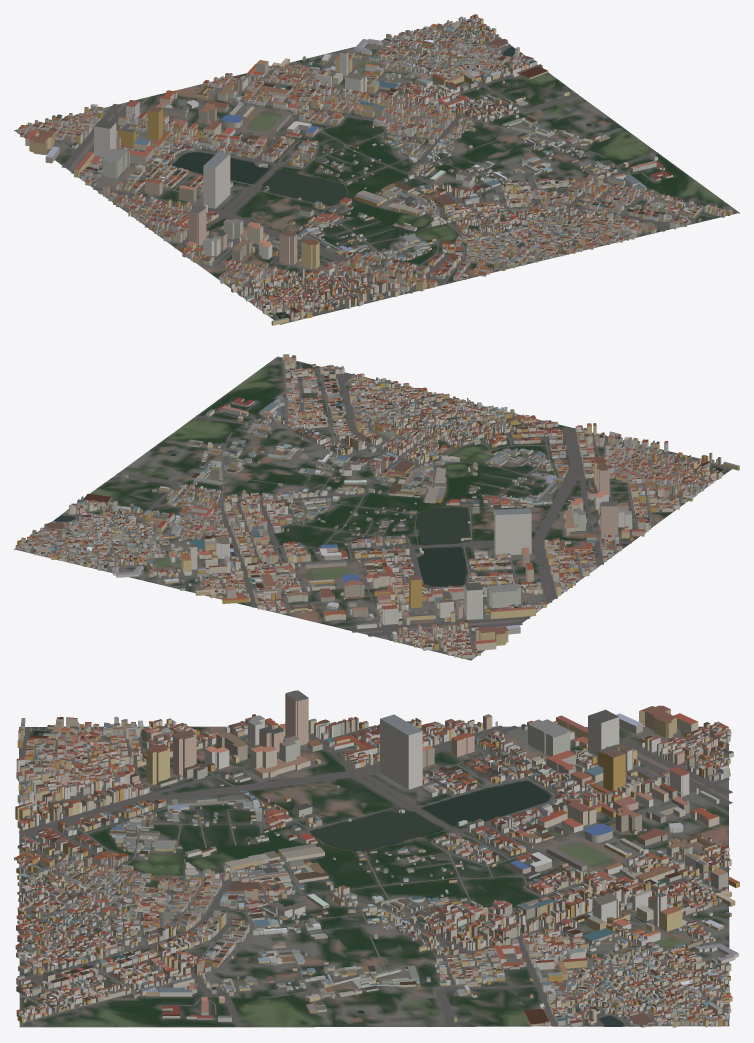
3 views of the same model, one above another, from view 1: azimuth 30°, elevation 25°; view 2: azimuth 150°, elevation 25°; view 3: azimuth 270°, elevation 25° (orthographic). The views are drawn at different scales.
Visible parts, largest first — view 1: buildings, ground, roads, water; view 2: buildings, ground, roads, water; view 3: buildings, ground, roads, water.
Boxes of the visible parts, <box> form: buildings: <box>17,14,732,325</box>; ground: <box>14,19,739,324</box>; roads: <box>17,23,734,319</box>; water: <box>172,46,598,318</box>; buildings: <box>15,354,739,658</box>; ground: <box>14,356,732,660</box>; roads: <box>22,357,730,658</box>; water: <box>54,449,721,586</box>; buildings: <box>14,690,739,1027</box>; ground: <box>19,726,729,1027</box>; roads: <box>17,725,732,1027</box>; water: <box>33,731,624,1026</box>.
Bounding box in the file's own units: 1434 × 122 × 1434.
